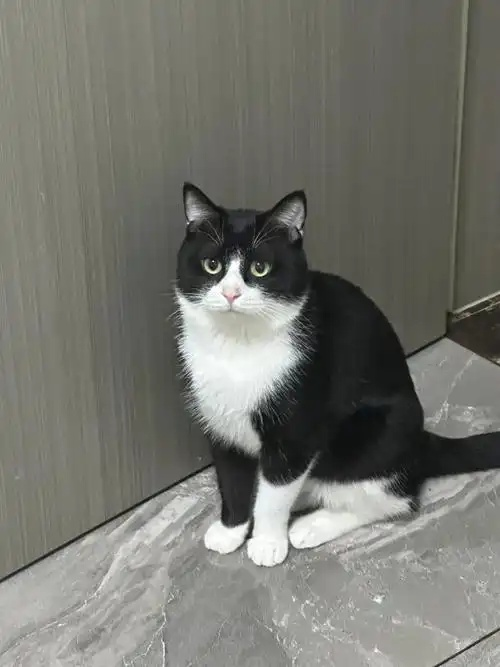奶牛猫: (176, 184, 491, 566)
